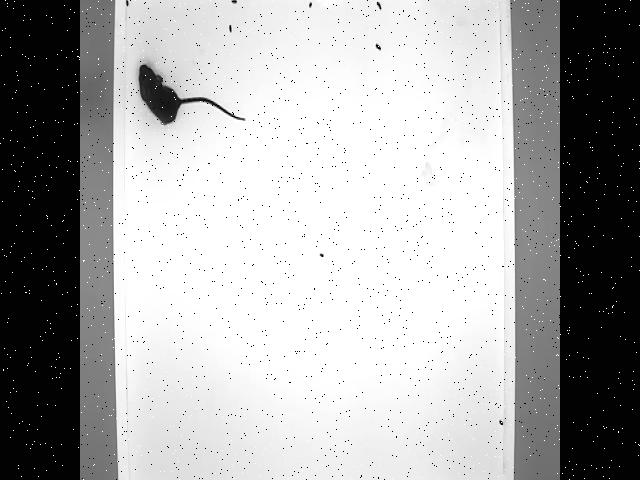Tikus: (136, 60, 248, 126)
